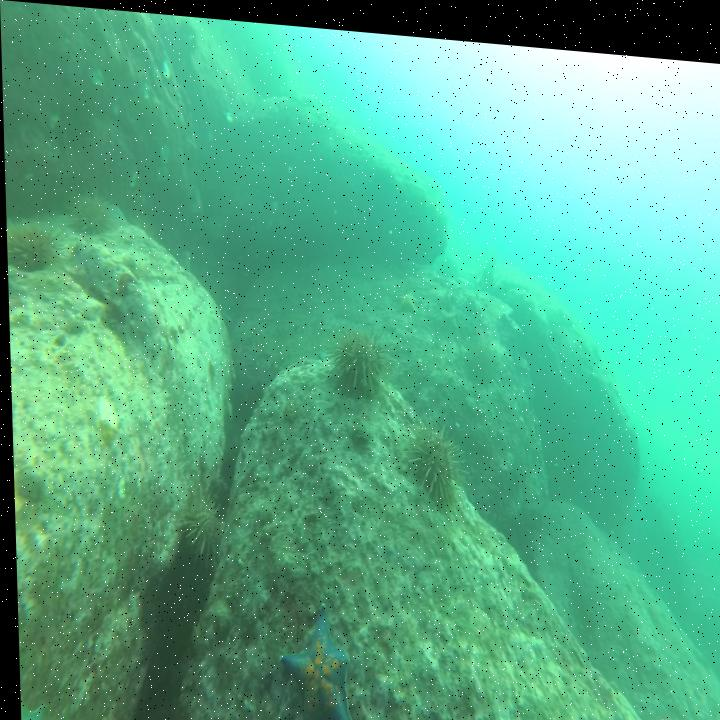echinus: (403, 405, 463, 502), (328, 317, 394, 398), (179, 474, 225, 565), (8, 215, 62, 277), (65, 185, 114, 238), (460, 319, 493, 378)
starfish: (274, 596, 358, 720), (392, 277, 419, 310)
